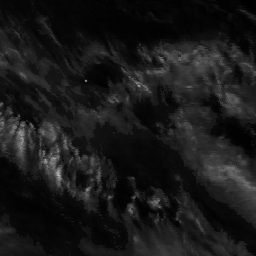Target: (83, 78, 88, 83)
